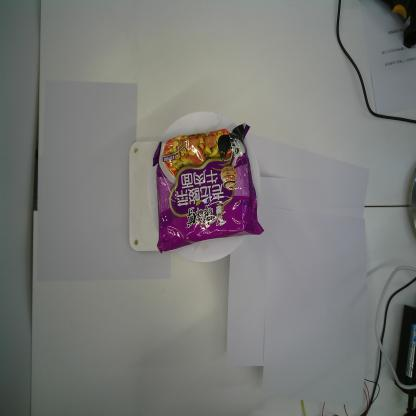Instant Noodles: (152, 122, 265, 254)
